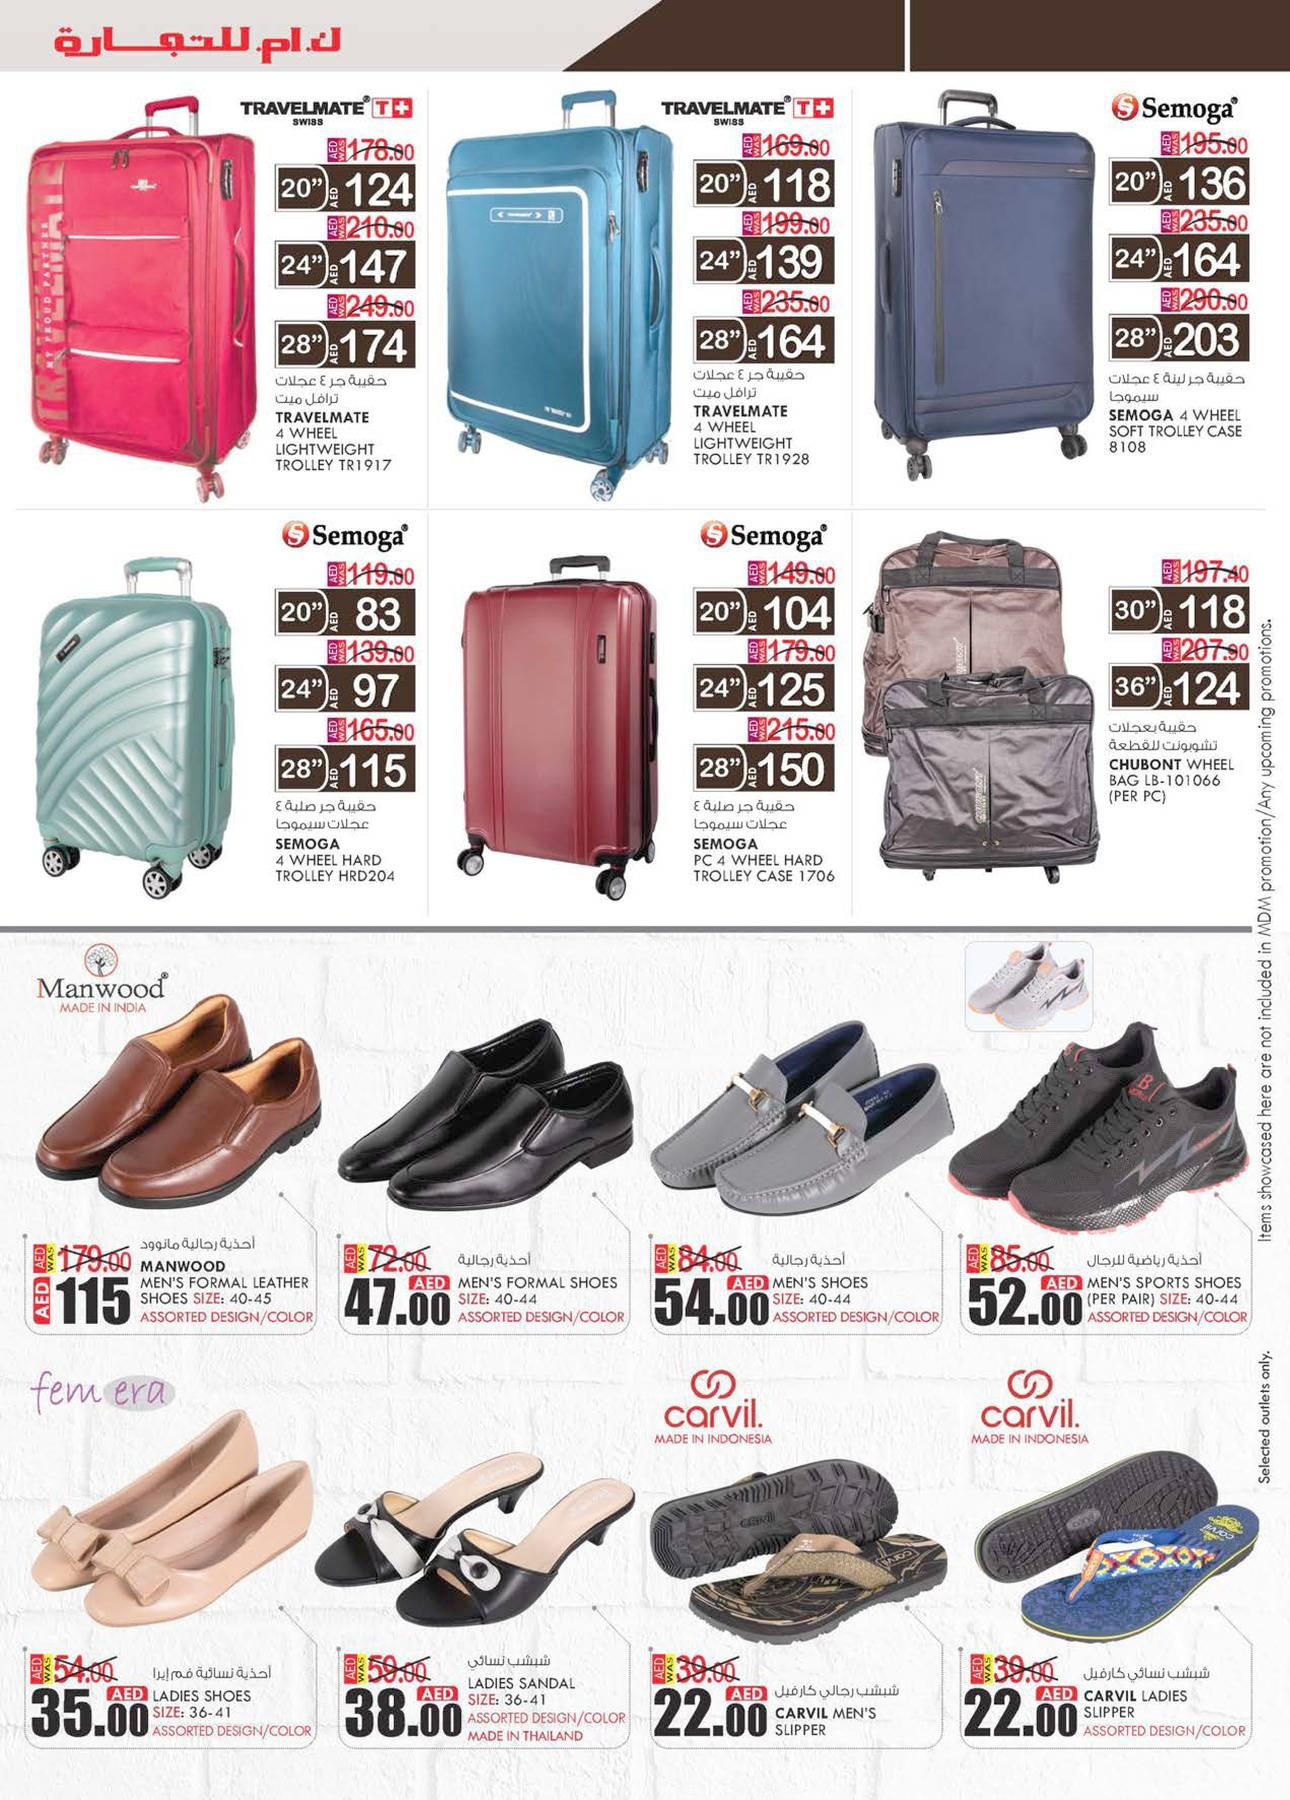text: (133, 1232, 320, 1333), (681, 793, 849, 892), (462, 1649, 631, 1747), (452, 1243, 630, 1334), (768, 1247, 949, 1335), (683, 364, 822, 477), (1076, 1659, 1254, 1744), (267, 368, 403, 479), (1097, 364, 1254, 460), (1081, 1250, 1254, 1335), (1099, 714, 1243, 813), (265, 793, 403, 892), (771, 1679, 912, 1746)
